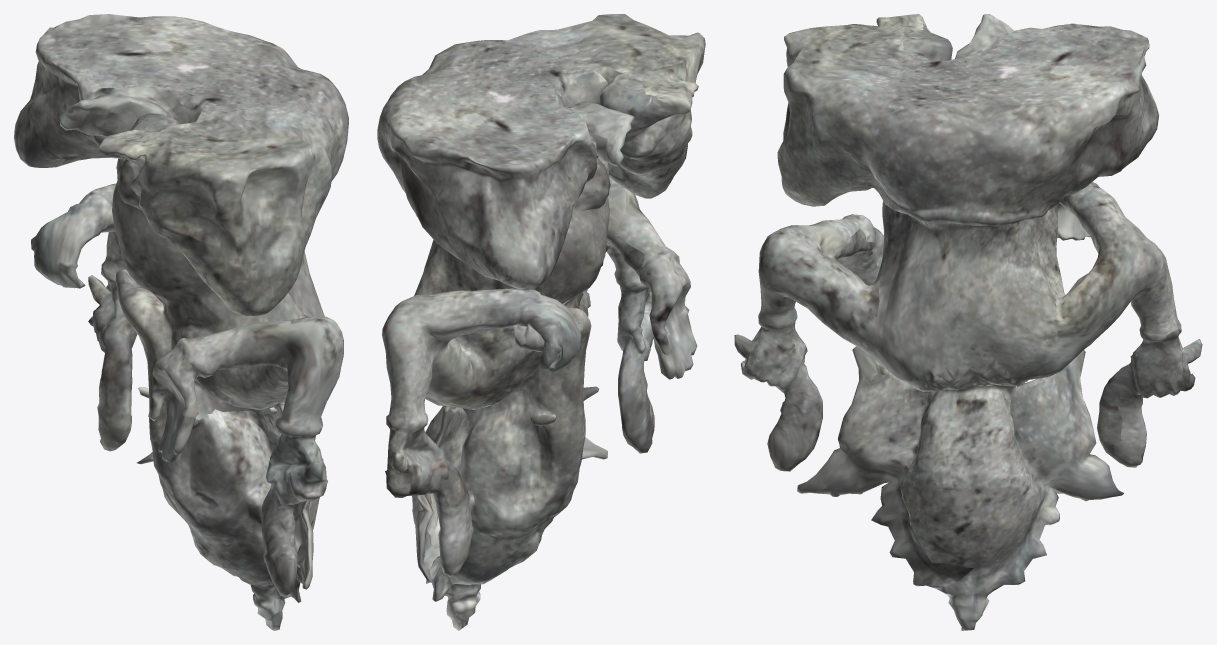
Rendered from ganesha.gltf.
3 renders of one model, left to right at view 1: azimuth 30°, elevation 25°; view 2: azimuth 150°, elevation 25°; view 3: azimuth 270°, elevation 25°, orthographic. The views are drawn at different scales.
Parts seen in each view (by area): view 1: Ganesha_LP_cleanUV; view 2: Ganesha_LP_cleanUV; view 3: Ganesha_LP_cleanUV.
Part boxes in pixels (x1,y1,x2,y2): Ganesha_LP_cleanUV: (14, 14, 348, 630); Ganesha_LP_cleanUV: (377, 14, 705, 630); Ganesha_LP_cleanUV: (734, 14, 1202, 630).
Bounding box in the file's own units: 3.37 × 7.32 × 5.77.
Materials: 1 (1 with a texture image).
